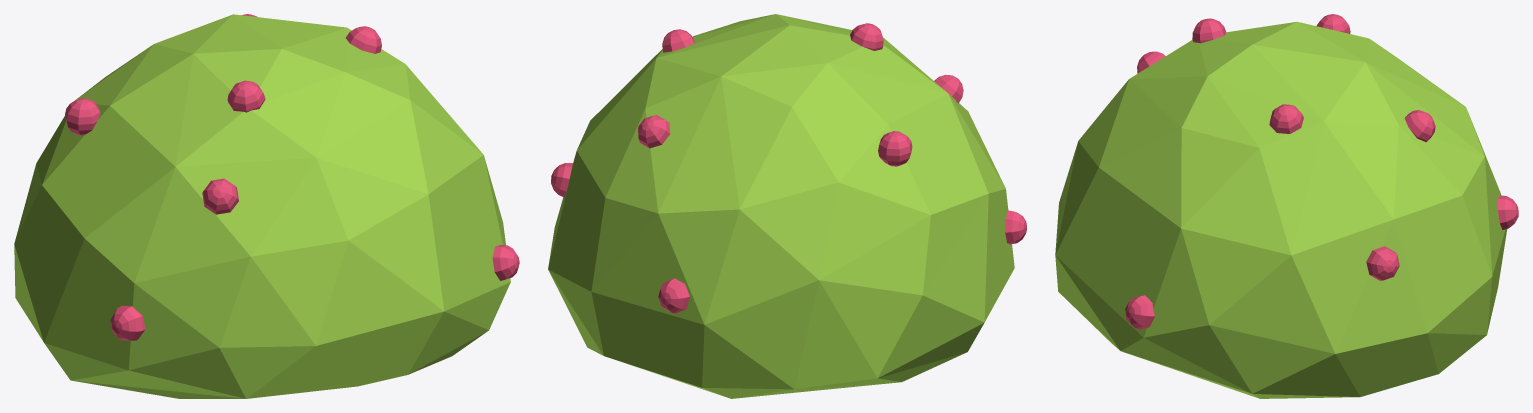
The model's file is bush_2.fbx.
3 views of the same model, side by side, from view 1: azimuth 30°, elevation 25°; view 2: azimuth 150°, elevation 25°; view 3: azimuth 270°, elevation 25° (orthographic). The views are drawn at different scales.
Parts seen in each view (by area): view 1: Sphere.035; view 2: Sphere.035; view 3: Sphere.035.
Boxes of the visible parts, x1=… form: Sphere.035: x1=14, y1=14, x2=519, y2=398; Sphere.035: x1=548, y1=14, x2=1026, y2=398; Sphere.035: x1=1055, y1=14, x2=1518, y2=398.
Size of the model in its own units: 200 by 137 by 201.
